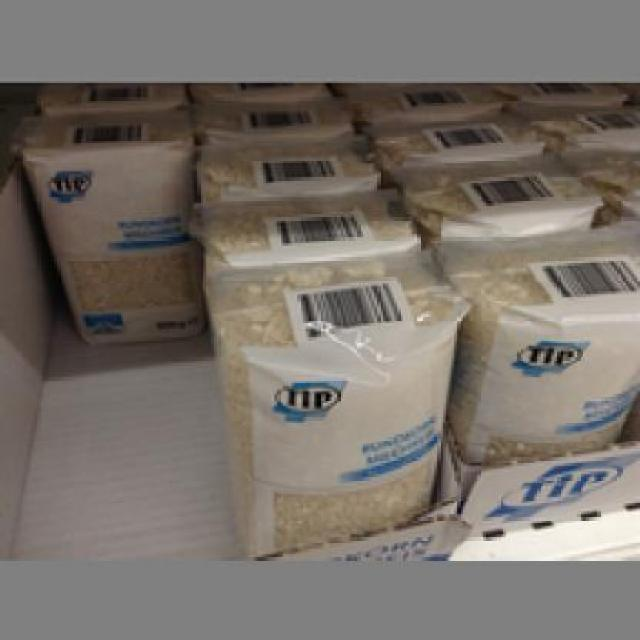Rice: (202, 246, 458, 554), (428, 228, 638, 458), (8, 103, 201, 343)
